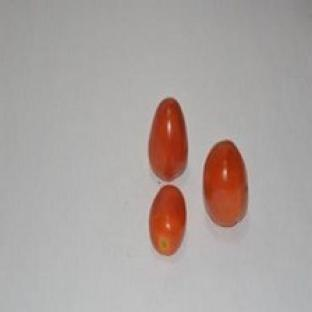Tomato: (204, 141, 247, 227), (150, 98, 188, 181), (150, 186, 186, 256)
